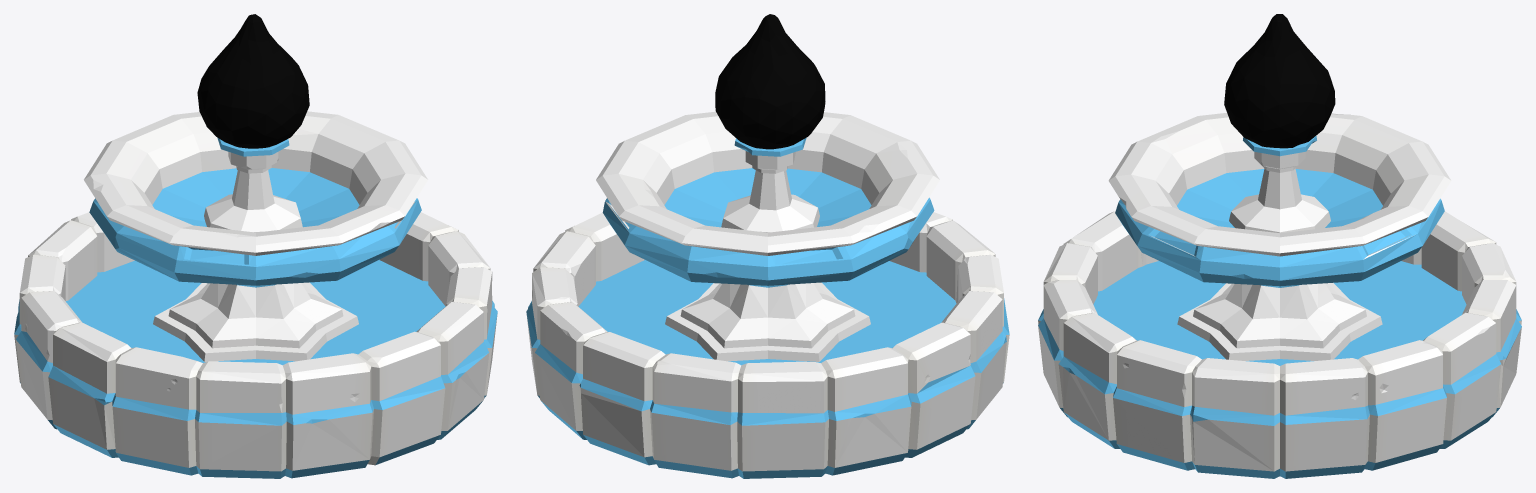
File: Fountain_01.fbx
3 renders of one model, left to right at view 1: azimuth 30°, elevation 25°; view 2: azimuth 150°, elevation 25°; view 3: azimuth 270°, elevation 25°, orthographic.
Parts seen in each view (by area): view 1: Meshy_Fountain_01_SM_Prop_Fountain_01.002; view 2: Meshy_Fountain_01_SM_Prop_Fountain_01.002; view 3: Meshy_Fountain_01_SM_Prop_Fountain_01.002.
Boxes of the visible parts, box(x1,y1,x2,y2) form: Meshy_Fountain_01_SM_Prop_Fountain_01.002: box(14, 14, 497, 478); Meshy_Fountain_01_SM_Prop_Fountain_01.002: box(526, 14, 1009, 478); Meshy_Fountain_01_SM_Prop_Fountain_01.002: box(1038, 14, 1521, 478).
Size of the model in its own units: 515 by 431 by 515.
